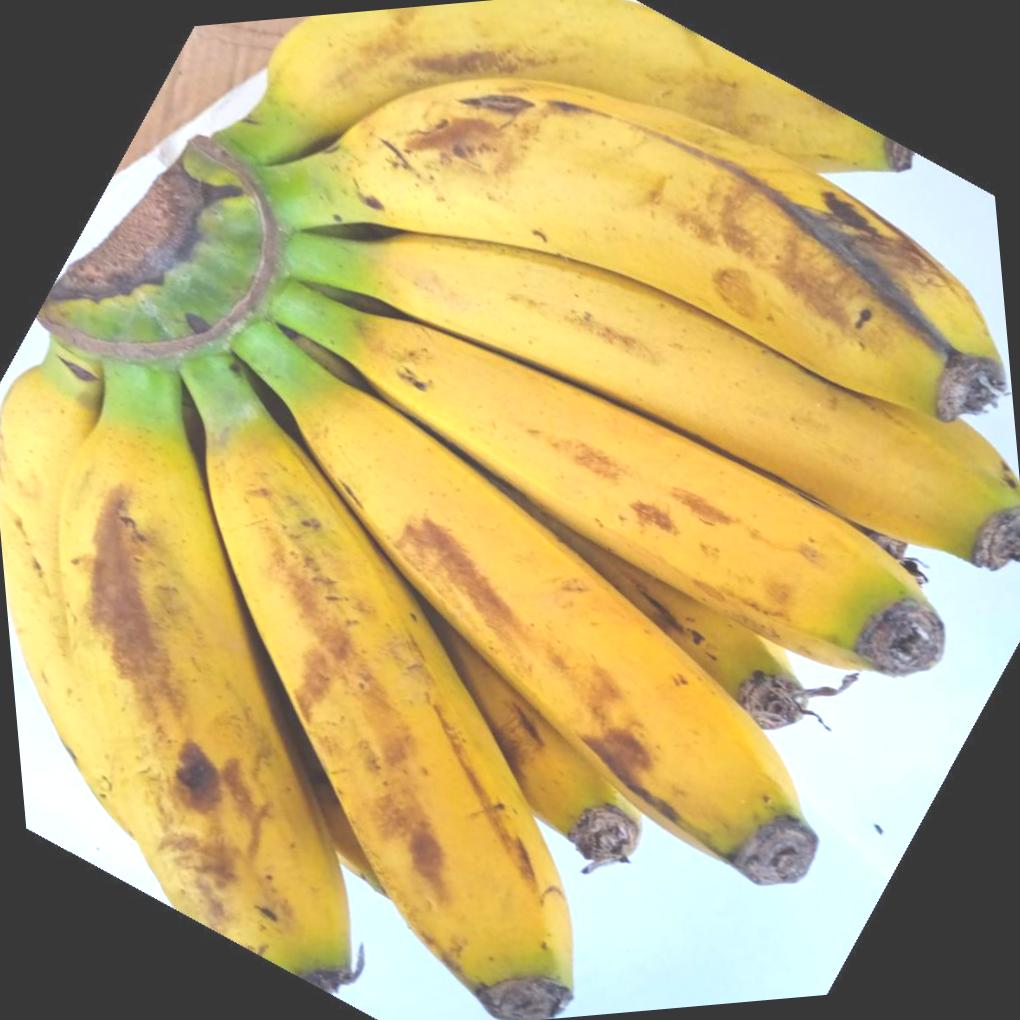Banana Ripe: (232, 183, 815, 980), (312, 14, 1006, 468), (24, 356, 358, 1013)
